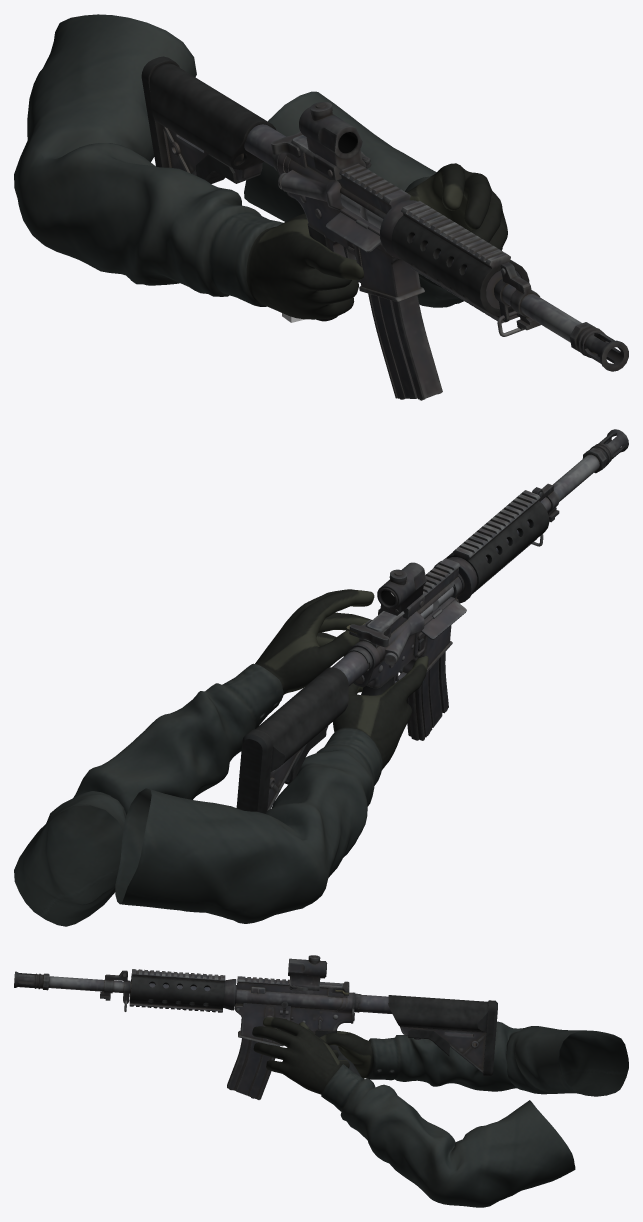
File: gun_000087.obj
3 renders of one model, top to bottom at view 1: azimuth 30°, elevation 25°; view 2: azimuth 150°, elevation 25°; view 3: azimuth 270°, elevation 25°, orthographic. The views are drawn at different scales.
Visible parts, largest first — view 1: armmesh_arms_0, base_carbine_0, clip_carbine_0, scope_carbine_0, lid_carbine_0; view 2: armmesh_arms_0, base_carbine_0, clip_carbine_0, scope_carbine_0, lid_carbine_0; view 3: armmesh_arms_0, base_carbine_0, clip_carbine_0, scope_carbine_0.
Part boxes in pixels (left/top/right/bottom): armmesh_arms_0: left=14, top=14, right=507, bottom=319; base_carbine_0: left=141, top=56, right=628, bottom=371; clip_carbine_0: left=368, top=293, right=442, bottom=400; scope_carbine_0: left=299, top=101, right=371, bottom=180; lid_carbine_0: left=326, top=212, right=381, bottom=252; armmesh_arms_0: left=14, top=589, right=428, bottom=926; base_carbine_0: left=236, top=429, right=628, bottom=813; clip_carbine_0: left=406, top=652, right=448, bottom=740; scope_carbine_0: left=377, top=562, right=426, bottom=618; lid_carbine_0: left=421, top=600, right=466, bottom=639; armmesh_arms_0: left=252, top=1017, right=628, bottom=1207; base_carbine_0: left=14, top=969, right=497, bottom=1076; clip_carbine_0: left=227, top=1038, right=275, bottom=1099; scope_carbine_0: left=288, top=955, right=327, bottom=991.
Size of the model in its own units: 50.26 by 43.44 by 128.
